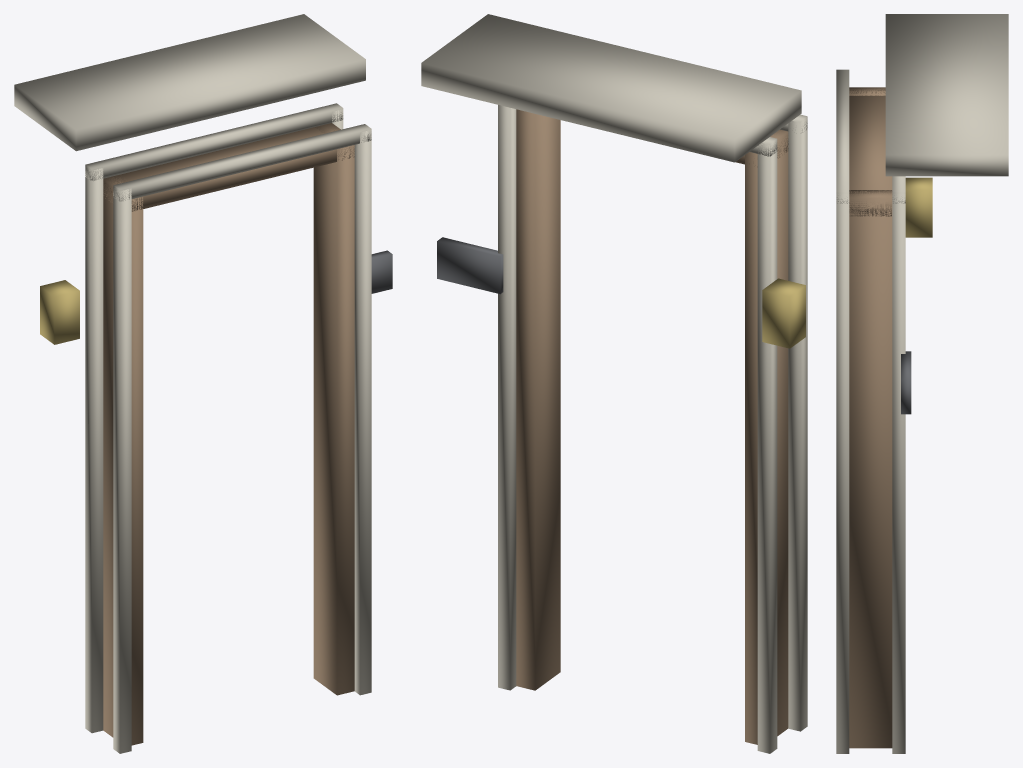
The model's file is doorway_motel_w76_h200_d16.glb.
3 views of the same model, side by side, from view 1: azimuth 30°, elevation 25°; view 2: azimuth 150°, elevation 25°; view 3: azimuth 270°, elevation 25° (orthographic). The views are drawn at different scales.
Visible parts, largest first — view 1: world; view 2: world; view 3: world.
Part boxes in pixels (x1,y1,x2,y2): world: (14,14,392,753); world: (421,14,807,753); world: (836,14,1008,753).
Bounding box in the file's own units: 1.32 × 2.29 × 0.5882.
